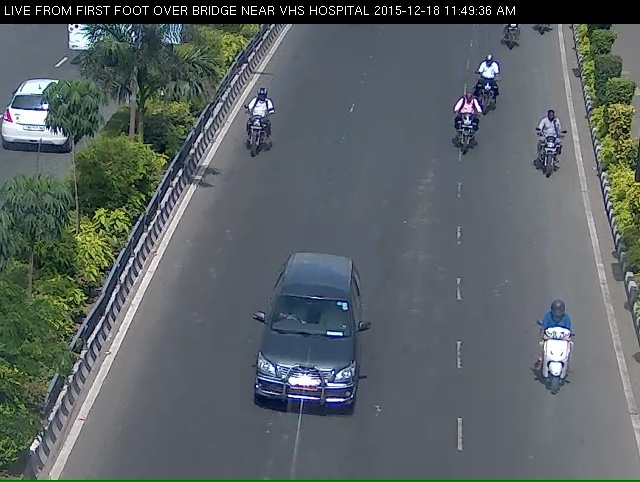Car: (249, 266, 359, 453)
Person: (534, 301, 576, 419), (241, 97, 268, 169), (535, 118, 563, 186), (452, 101, 478, 165), (474, 61, 498, 119)
